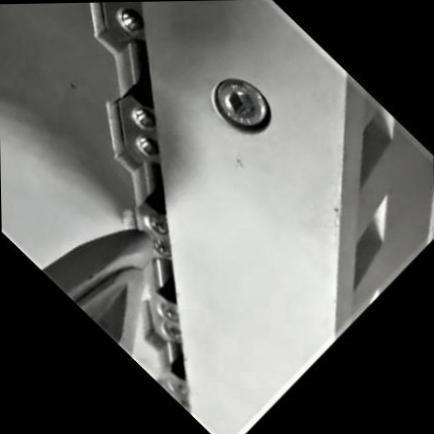hole: (109, 1, 151, 43), (126, 98, 166, 140), (128, 130, 166, 166)
